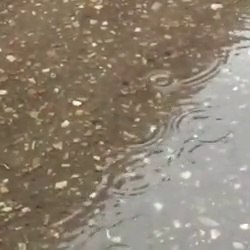drop: (105, 150, 159, 195), (169, 108, 229, 144), (147, 71, 176, 87)
